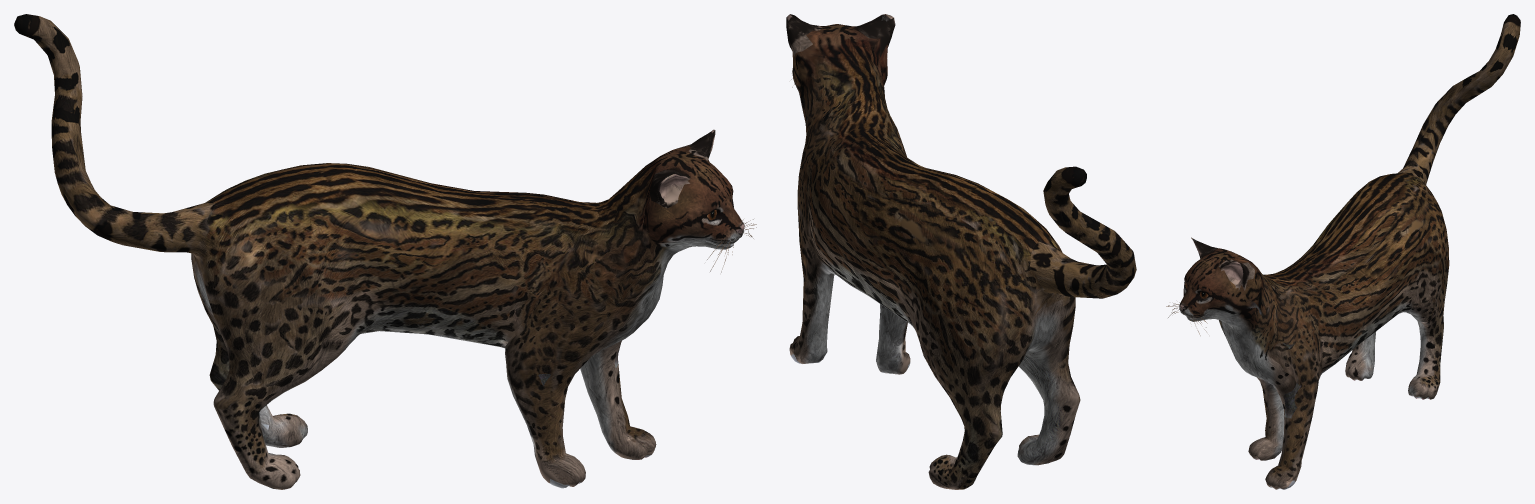
File: Manigordo.glb
The picture shows the model from 3 angles, left to right: view 1: azimuth 30°, elevation 25°; view 2: azimuth 150°, elevation 25°; view 3: azimuth 270°, elevation 25°; orthographic projection. The views are drawn at different scales.
Visible parts, largest first — view 1: Ocelot; view 2: Ocelot; view 3: Ocelot.
Part boxes in pixels (box(x1,y1,x2,y2)): Ocelot: box(14, 14, 756, 489); Ocelot: box(786, 14, 1136, 489); Ocelot: box(1166, 14, 1520, 489).
Bounding box in the file's own units: 4.77 × 3.71 × 3.82.
1 material, 1 textured.
